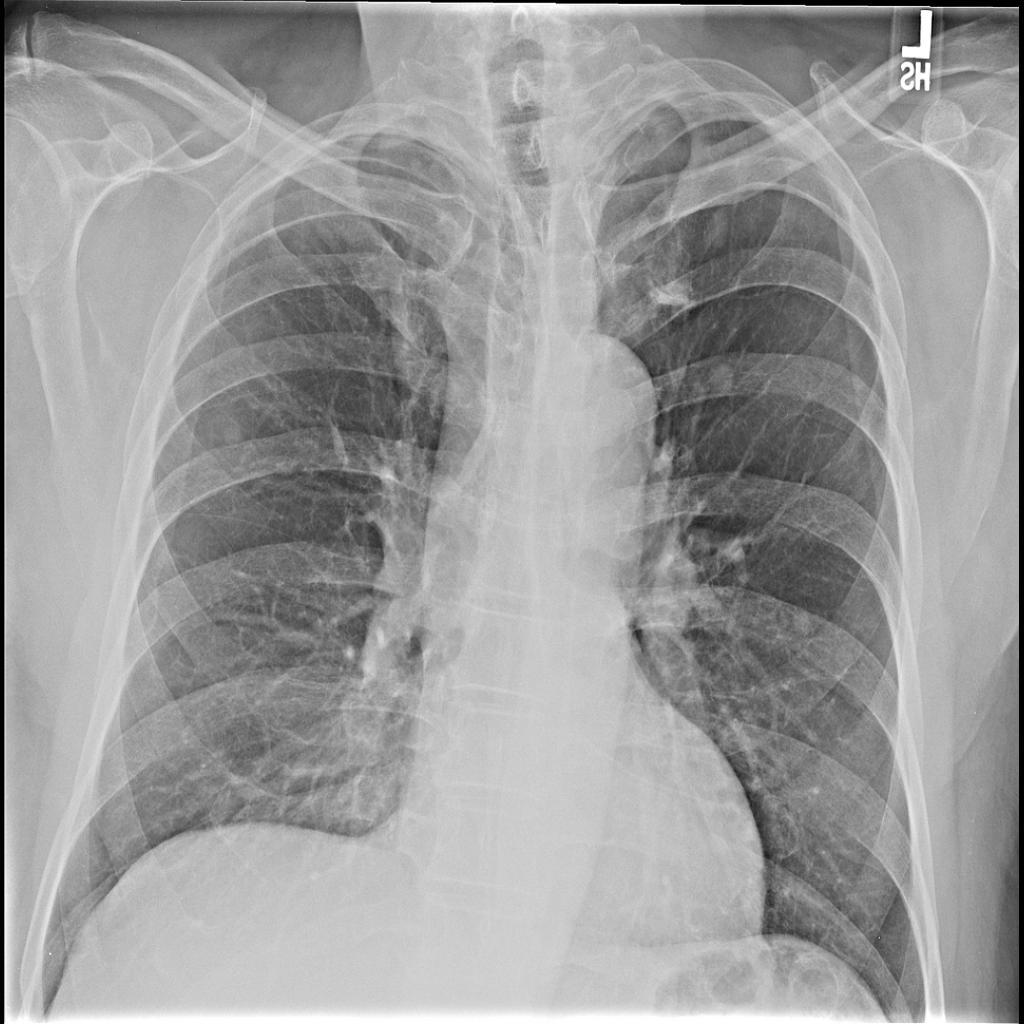Nodule: (702, 201, 736, 255), (791, 611, 825, 653), (712, 362, 743, 402)
